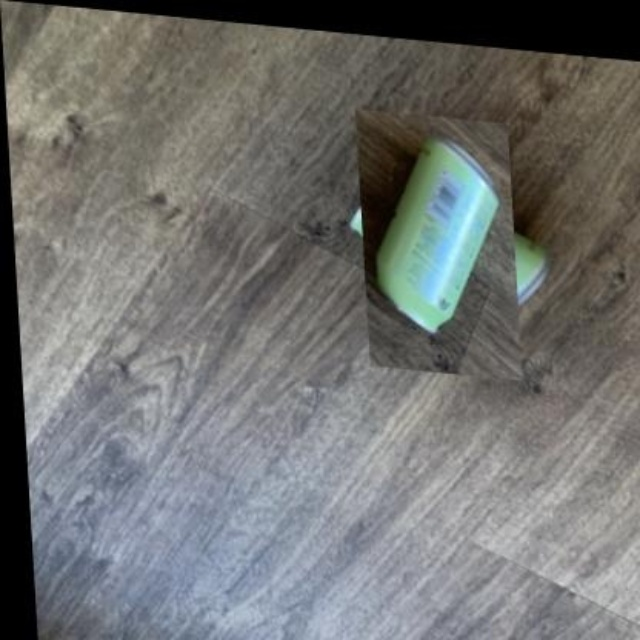trash: (377, 137, 497, 332), (514, 234, 548, 303)
